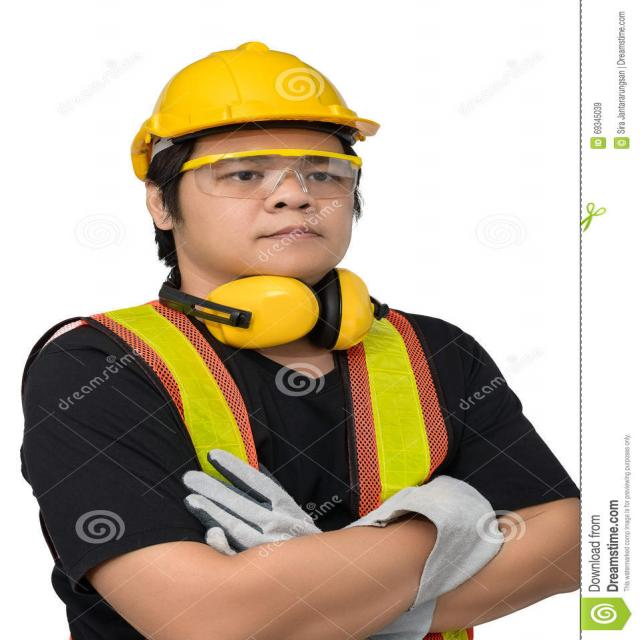Reflective-Jacket: (94, 290, 458, 524)
Safety-Helmet: (134, 40, 380, 145)
